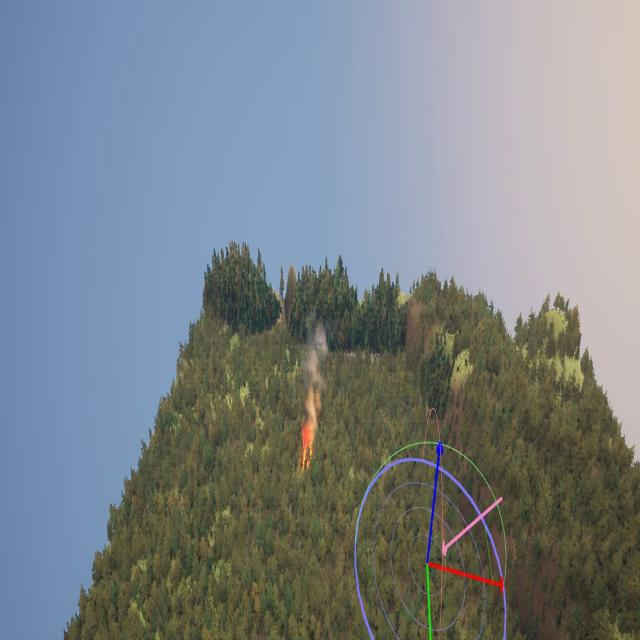fire: (300, 414, 312, 474)
smoke: (305, 311, 326, 421)
